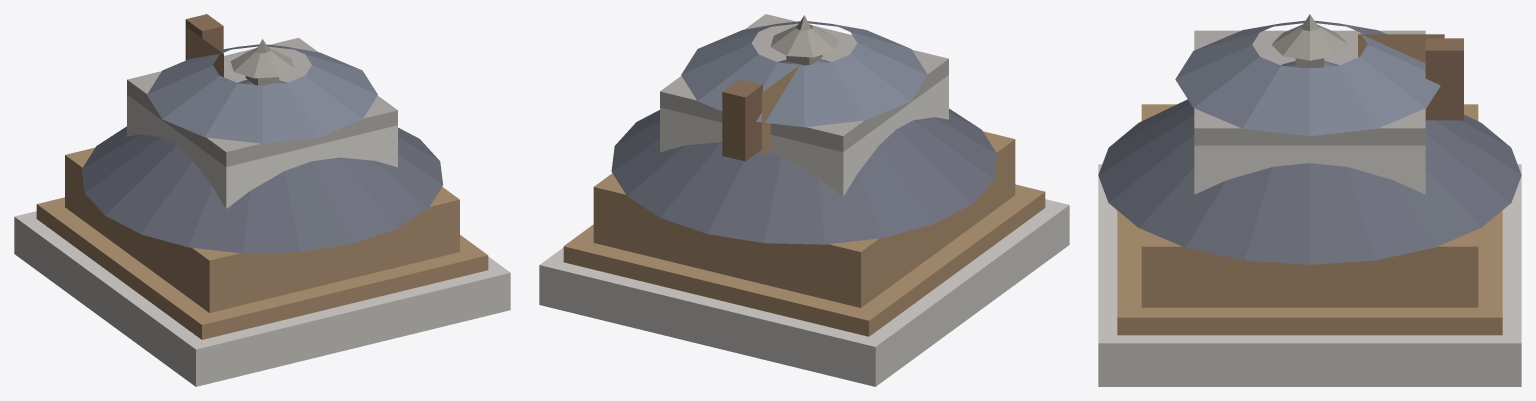
Rendered from station_神苑.glb.
3 views of the same model, side by side, from view 1: azimuth 30°, elevation 25°; view 2: azimuth 150°, elevation 25°; view 3: azimuth 270°, elevation 25° (orthographic). The views are drawn at different scales.
Visible parts, largest first — view 1: 神苑; view 2: 神苑; view 3: 神苑.
Boxes of the visible parts, <box> form: 神苑: <box>14,14,510,386</box>; 神苑: <box>539,14,1069,386</box>; 神苑: <box>1098,14,1521,386</box>.
Bounding box in the file's own units: 0.88 × 0.65 × 0.88.
